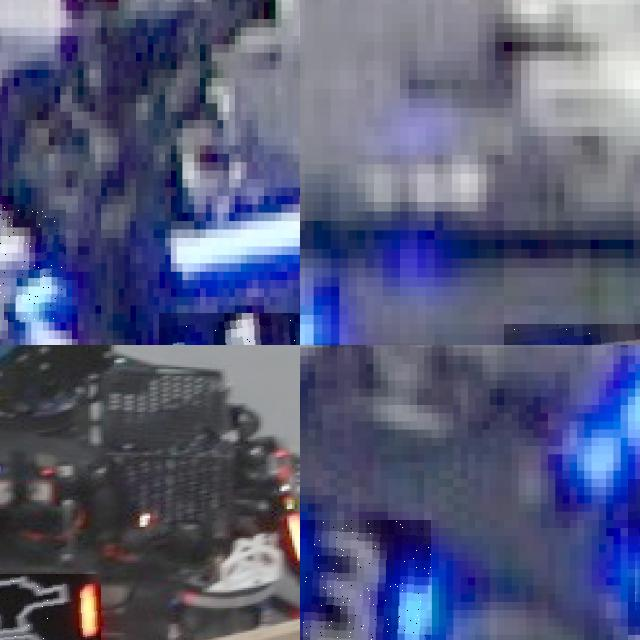B1: (0, 204, 66, 322), (159, 313, 300, 345)
B3: (300, 519, 431, 640)
Rs: (0, 574, 101, 640)
